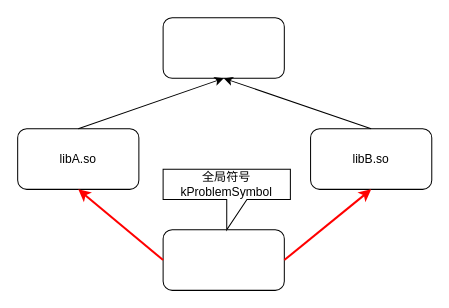
Some shapes in this 449 by 308 pixel diagram are drawn without their labels. Here are the shapes that lost their labels. From the top down, the centre of each, then its label:
At pixel 223 47: "可执行程序".
At pixel 223 259: "libCommon.a".
